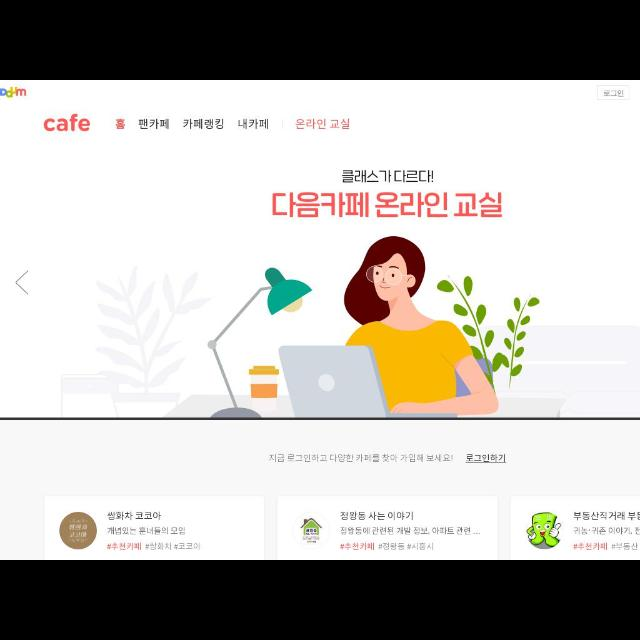button: (59, 513, 100, 547)
icon: (13, 266, 31, 298)
image: (7, 225, 639, 420), (527, 512, 561, 548), (302, 518, 322, 544), (0, 88, 28, 99)
text: (272, 192, 502, 220), (268, 452, 454, 464), (342, 170, 433, 184), (340, 508, 416, 522), (341, 526, 472, 534), (107, 525, 185, 537), (295, 118, 353, 132), (44, 116, 92, 132), (572, 510, 640, 520), (573, 526, 639, 536), (183, 118, 225, 132), (378, 542, 432, 552), (573, 543, 639, 551), (138, 116, 170, 130), (107, 511, 163, 519), (465, 454, 507, 464), (238, 118, 270, 130), (341, 542, 375, 552), (105, 542, 139, 550), (173, 542, 200, 550), (146, 542, 168, 550), (604, 90, 626, 98), (116, 118, 126, 132)
textbutton: (598, 86, 630, 100)
